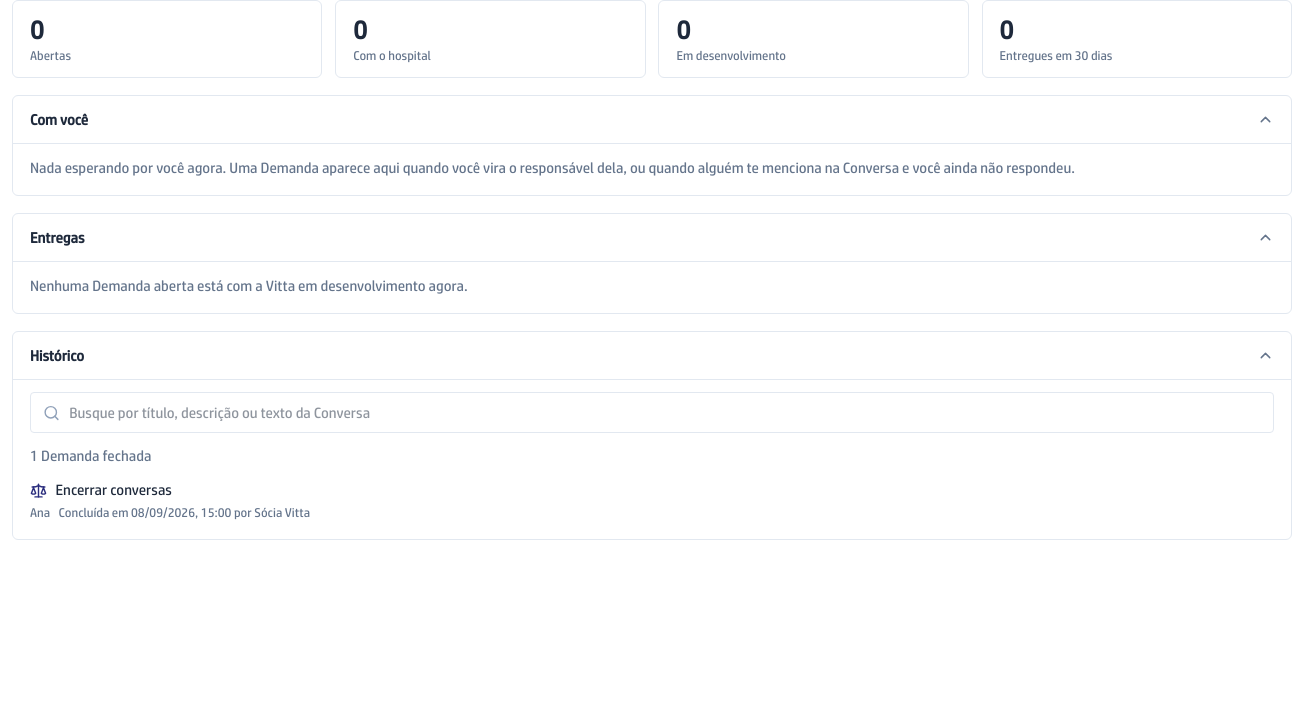
Histórico › a frase cita o termo da lista que está na tela, e não o que está sendo digitado
Expected: the text "Encerrar conversas" is shown, left=56, top=480, right=172, bottom=501
In the search field named "Buscar no Histórico": (652, 413) left=30, top=392, right=1274, bottom=433, type "ouvidoria"
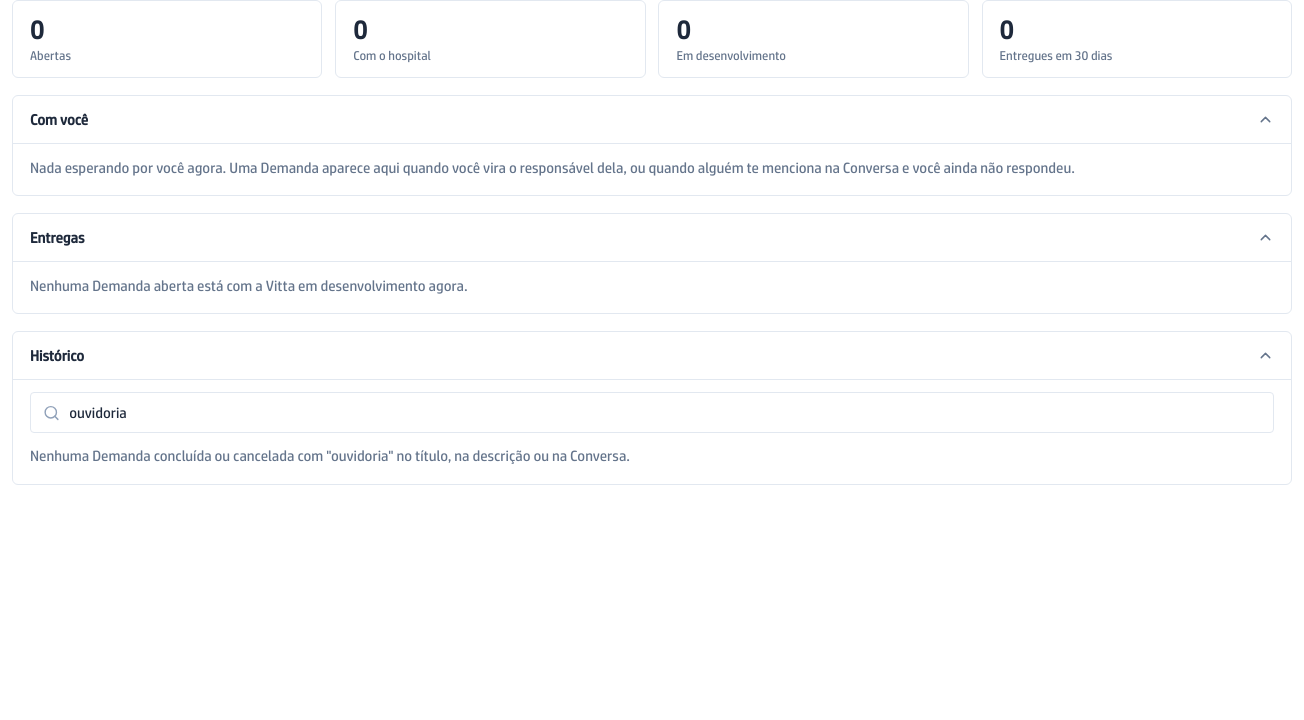
Expected: the text "\"ouvidoria\"" is shown, left=30, top=448, right=630, bottom=464
Replace the text in the search field named "Buscar no Histórico" with "xyz": (652, 413) left=30, top=392, right=1274, bottom=433
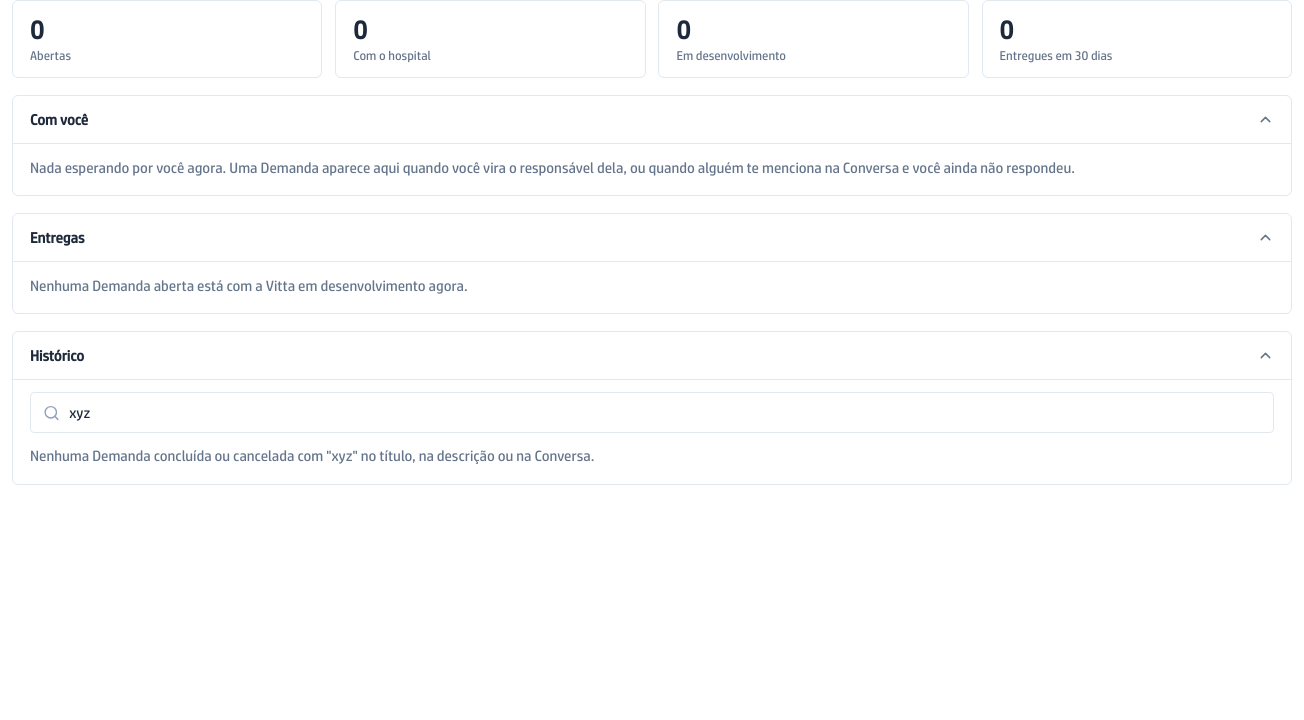
Expected: the text "\"xyz\"" is shown, left=30, top=448, right=594, bottom=464
